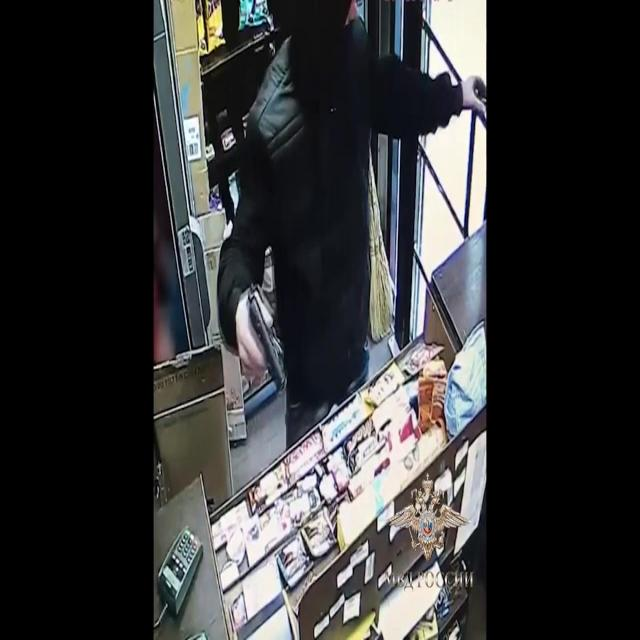gun: (222, 0, 487, 421), (239, 292, 287, 398)
